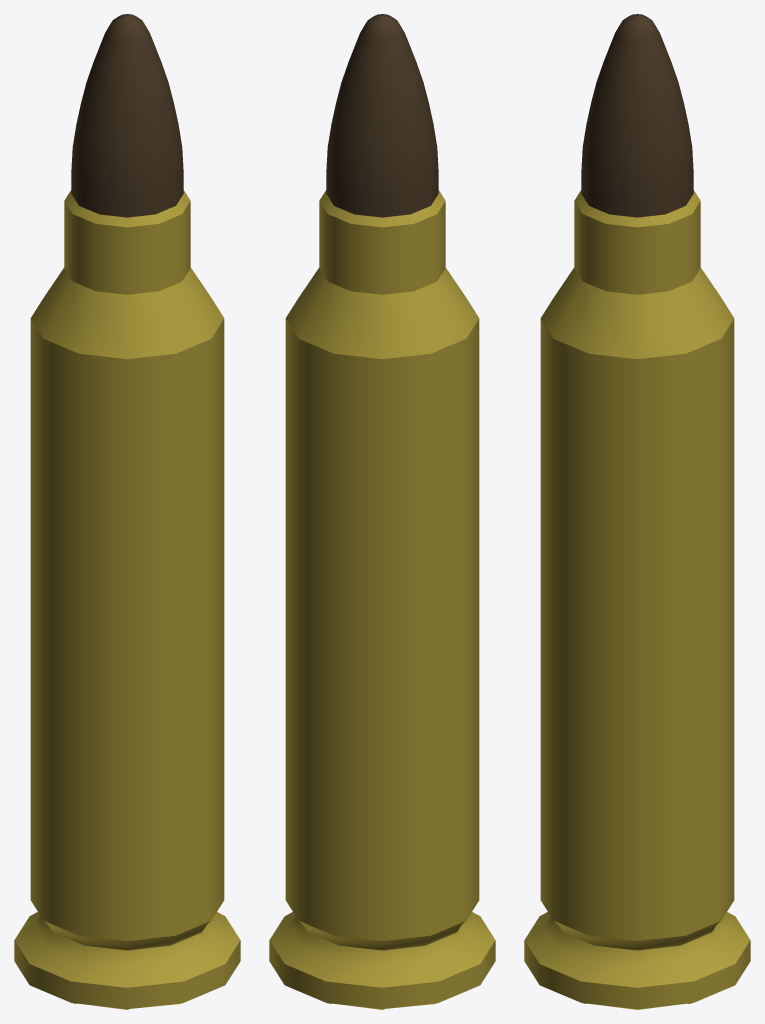
The model's file is SM_Bullet01.fbx.
3 renders of one model, left to right at view 1: azimuth 30°, elevation 25°; view 2: azimuth 150°, elevation 25°; view 3: azimuth 270°, elevation 25°, orthographic.
Visible parts, largest first — view 1: SM_Bullet01; view 2: SM_Bullet01; view 3: SM_Bullet01.
Boxes of the visible parts, box(x1,y1,x2,y2) form: SM_Bullet01: box(14, 14, 240, 1009); SM_Bullet01: box(269, 14, 495, 1009); SM_Bullet01: box(524, 14, 750, 1009).
Size of the model in its own units: 15.43 by 71.56 by 15.43.
